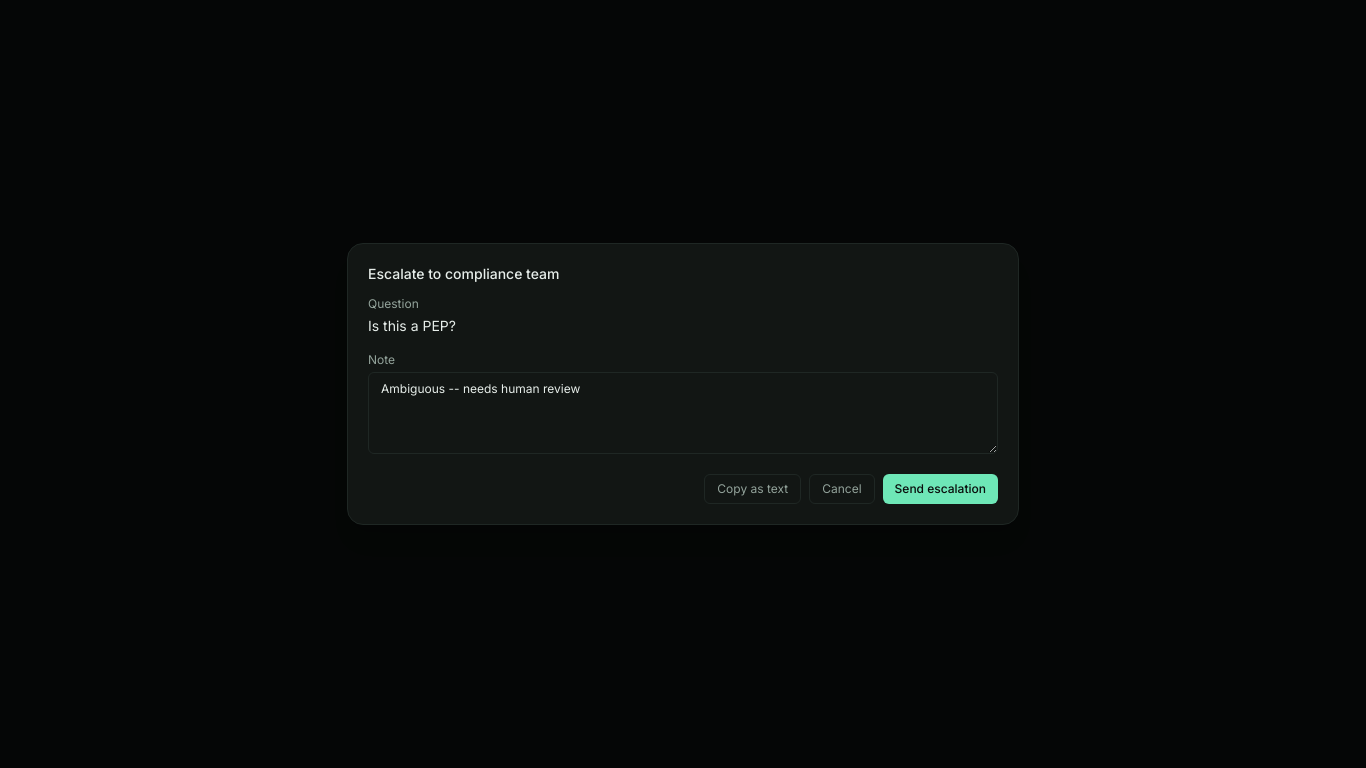
Scenario: EscalationModal › pre-fills the note from the draft and posts on submit
Replace the text in the text box labelled "Note" with "Reviewed and confirmed" at (683, 413), box [368,372,998,454]
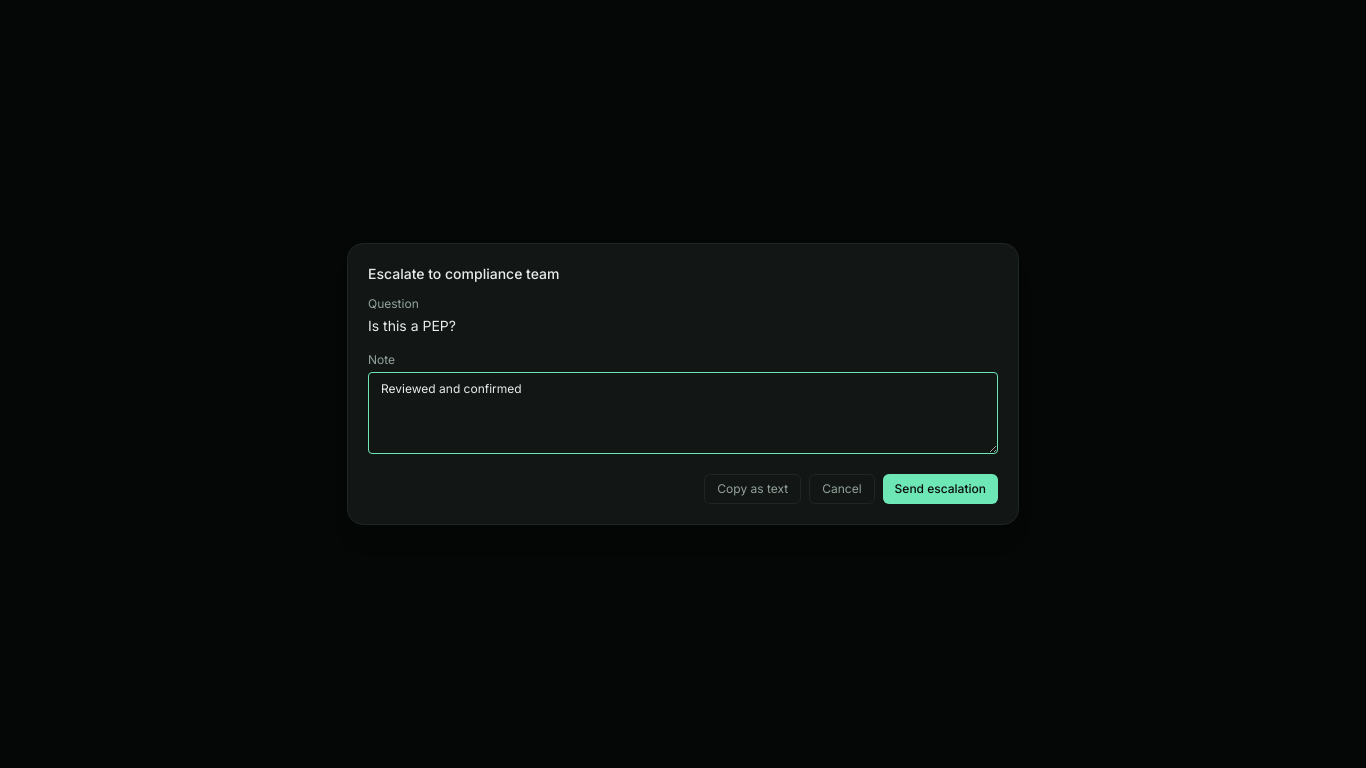
Click the button "Send escalation" at (940, 489), box [883,474,998,504]
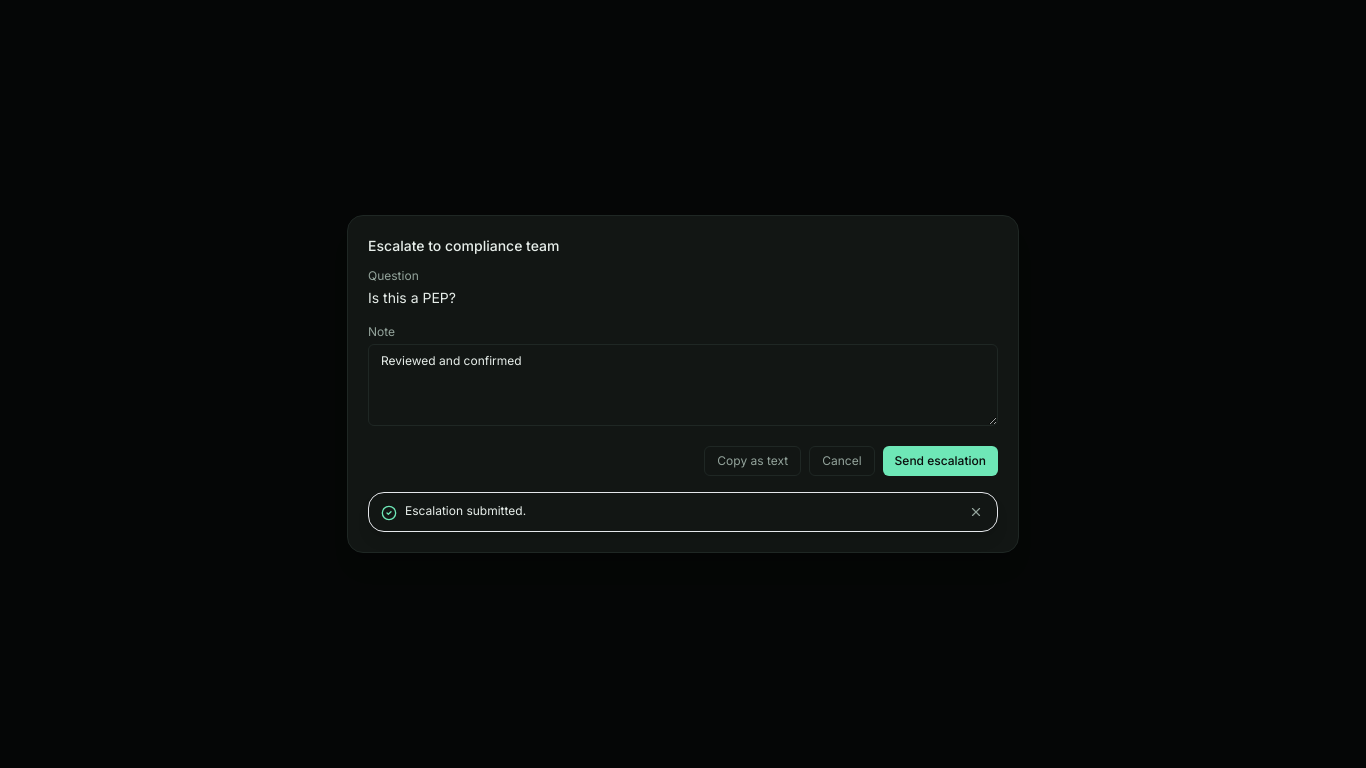
Expected: the text "Escalation submitted." is shown, [405,503,526,518]
